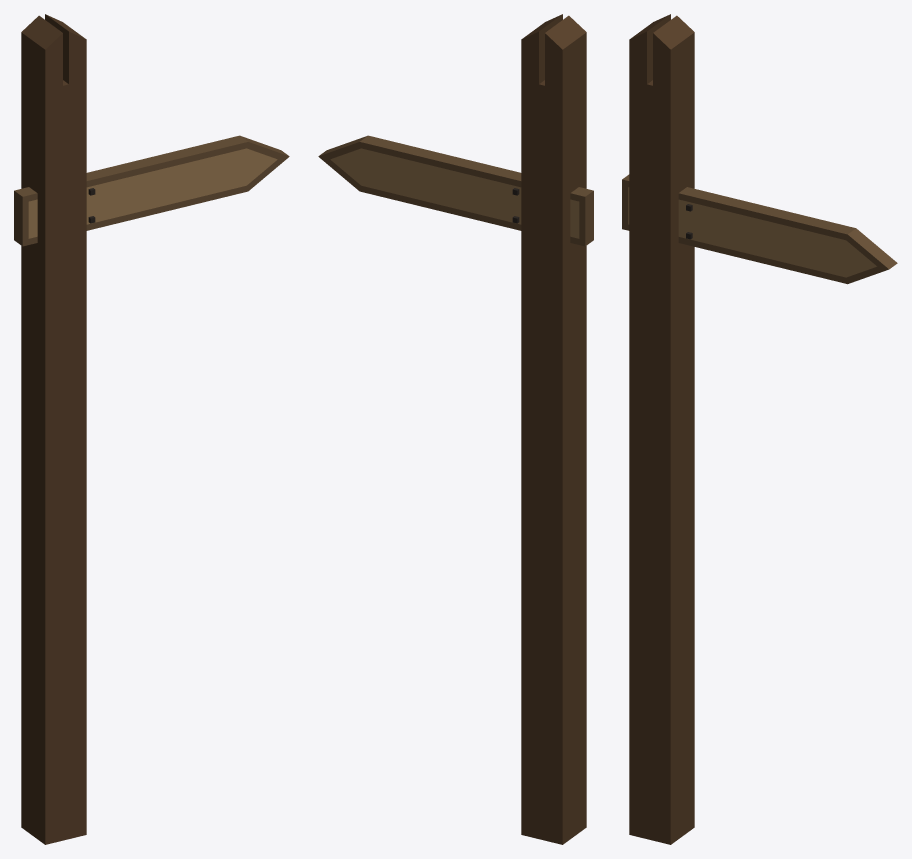
File: sign.glb
3 renders of one model, left to right at view 1: azimuth 30°, elevation 25°; view 2: azimuth 150°, elevation 25°; view 3: azimuth 330°, elevation 25°, orthographic.
Parts seen in each view (by area): view 1: Post, Arm; view 2: Post, Arm; view 3: Post, Arm.
Boxes of the visible parts, bbox=[...] form: Post: bbox=[21, 14, 86, 844]; Arm: bbox=[14, 135, 289, 246]; Post: bbox=[521, 14, 586, 844]; Arm: bbox=[318, 135, 593, 246]; Post: bbox=[629, 14, 694, 844]; Arm: bbox=[622, 174, 897, 284].
Size of the model in its own units: 0.9 by 2.6 by 0.14.
